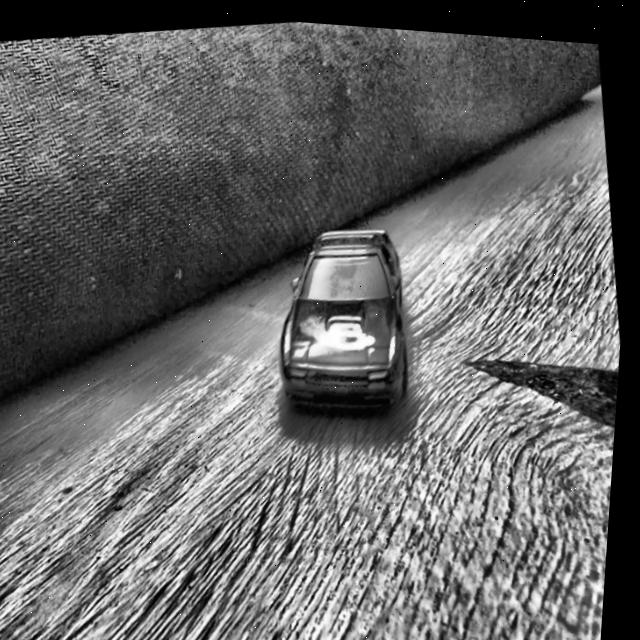car: (264, 211, 427, 422)
